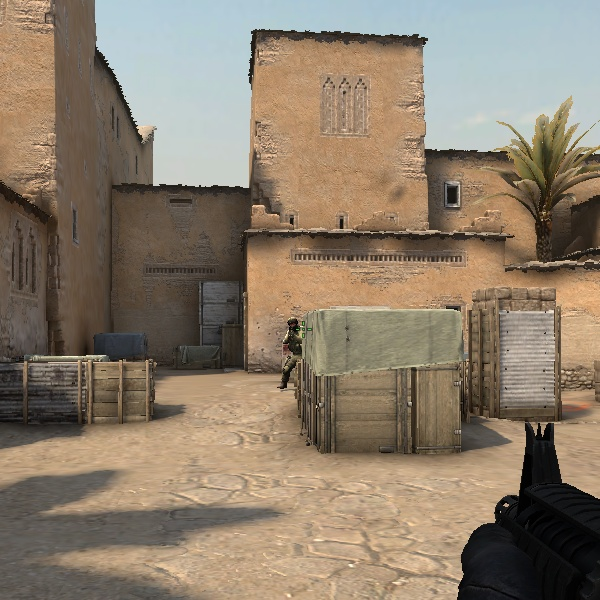ct_body: (267, 315, 305, 391)
ct_head: (282, 315, 304, 335)
